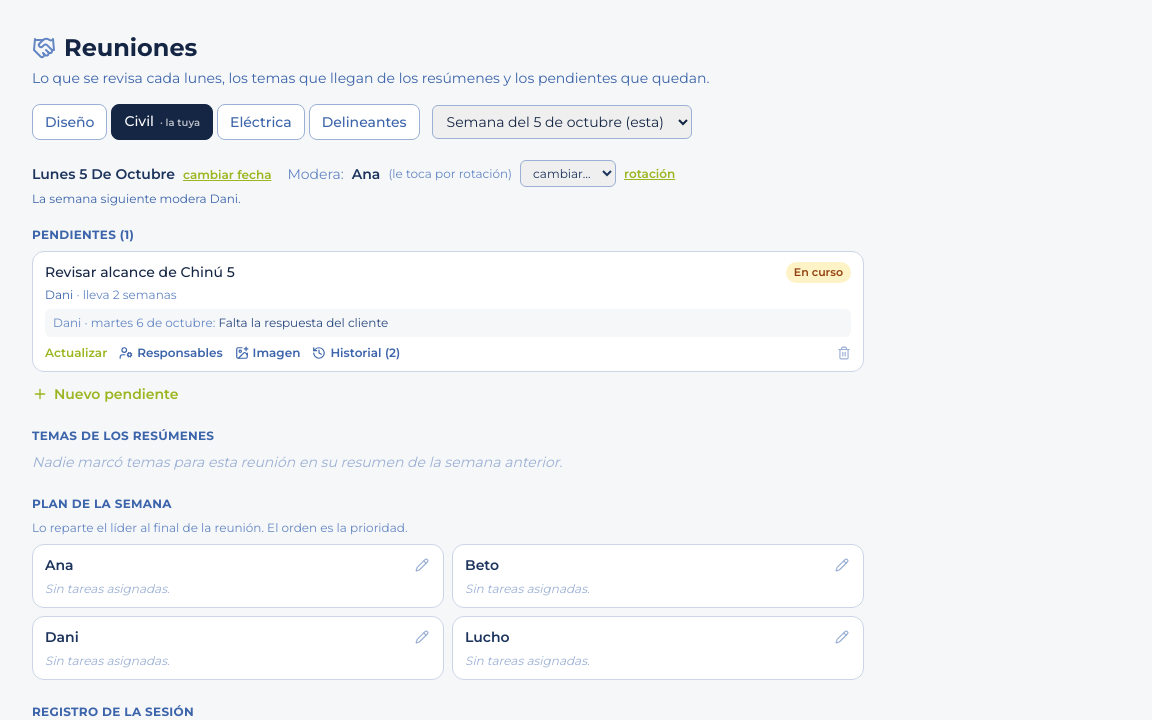
Scenario: quién modera › marca a quien modera esta semana y a quien le toca la siguiente
Step 1. Click the button "rotación" → (650, 174), box left=624, top=166, right=675, bottom=182
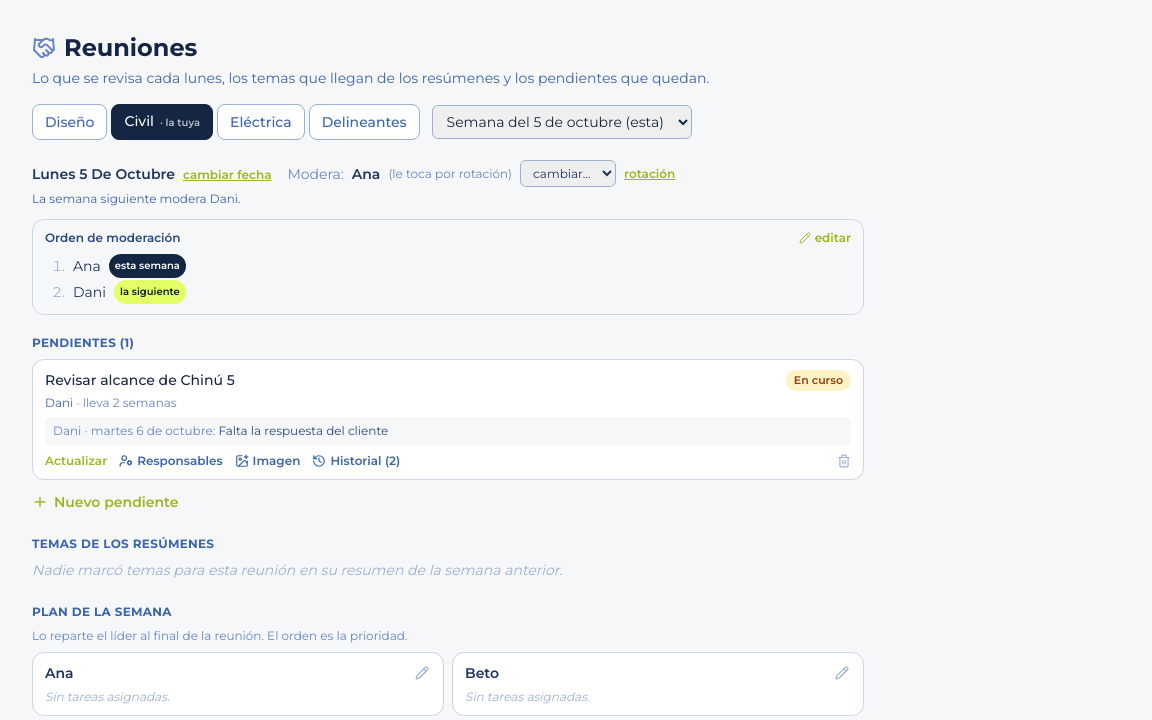
Expected: the list item "1. Ana esta semana" is shown, left=52, top=254, right=186, bottom=278
Expected: the list item "2. Dani la siguiente" is shown, left=52, top=280, right=186, bottom=304
